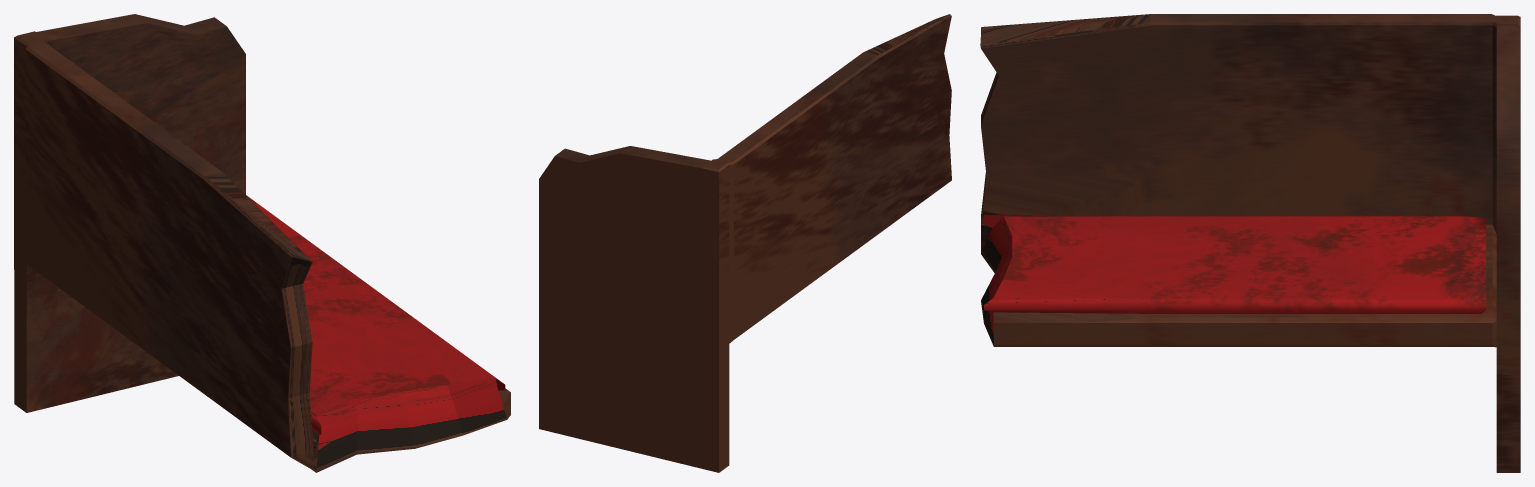
File: half pew.fbx
3 renders of one model, left to right at view 1: azimuth 30°, elevation 25°; view 2: azimuth 150°, elevation 25°; view 3: azimuth 270°, elevation 25°, orthographic. The views are drawn at different scales.
Visible parts, largest first — view 1: half_pew:pCube10; view 2: half_pew:pCube10; view 3: half_pew:pCube10.
Part boxes in pixels (bbox=[...]): half_pew:pCube10: bbox=[14, 14, 510, 472]; half_pew:pCube10: bbox=[539, 14, 951, 472]; half_pew:pCube10: bbox=[980, 14, 1520, 472].
Size of the model in its own units: 2.84 by 4.41 by 6.07.
1 material, 1 textured.
